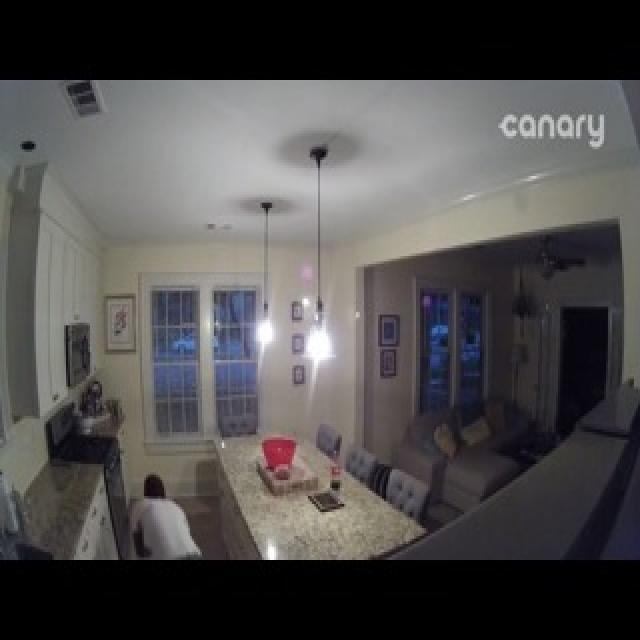thief: (128, 466, 202, 559)
